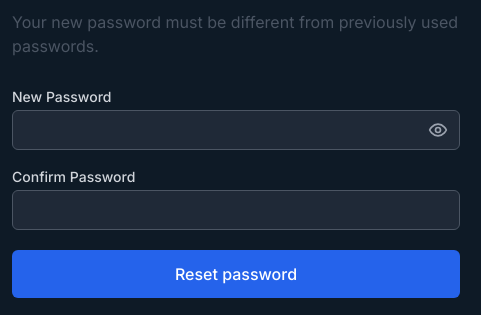
it: ResetPasswordPage › shows loading state during submission
Type "NewPassword123!" into the password field labelled "New Password" at coordinates (236, 130), box x1=12 y1=110 x2=460 y2=150
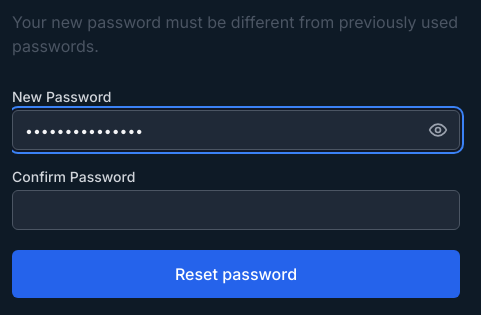
Type "NewPassword123!" into the password field labelled "Confirm Password" at coordinates (236, 210), box x1=12 y1=190 x2=460 y2=230
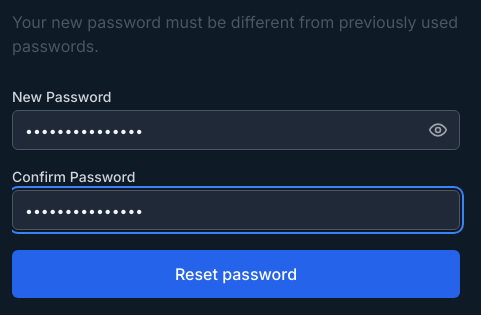
Click the button "Reset password" at coordinates (236, 274), box x1=12 y1=250 x2=460 y2=298
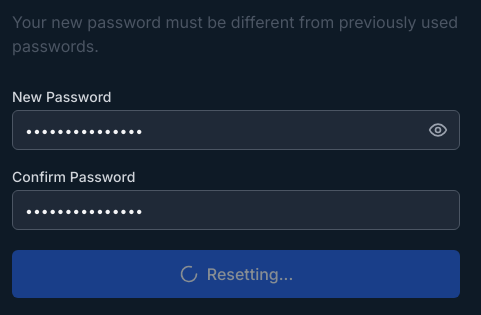
Now the button "Resetting..." is shown, box x1=12 y1=250 x2=460 y2=298
